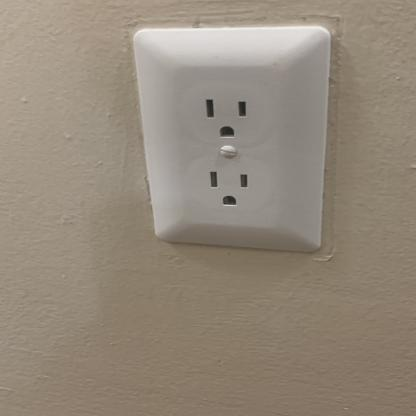OUTLET: (130, 23, 334, 256)
